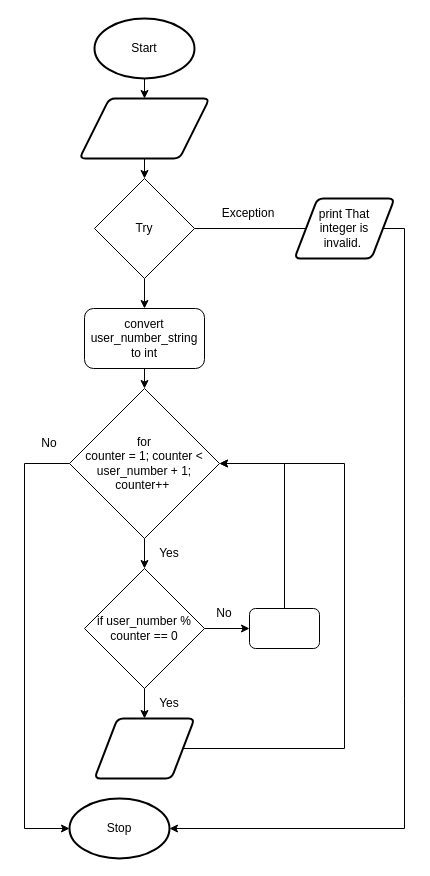
This 430x876 diagram has some shape labels left out. The box of each missing label's shape, as (x1, y1, x2, y2) in pixels:
continue: (248, 608, 320, 648)
get user_number_string: (78, 97, 210, 159)
print counter: (93, 717, 195, 779)
